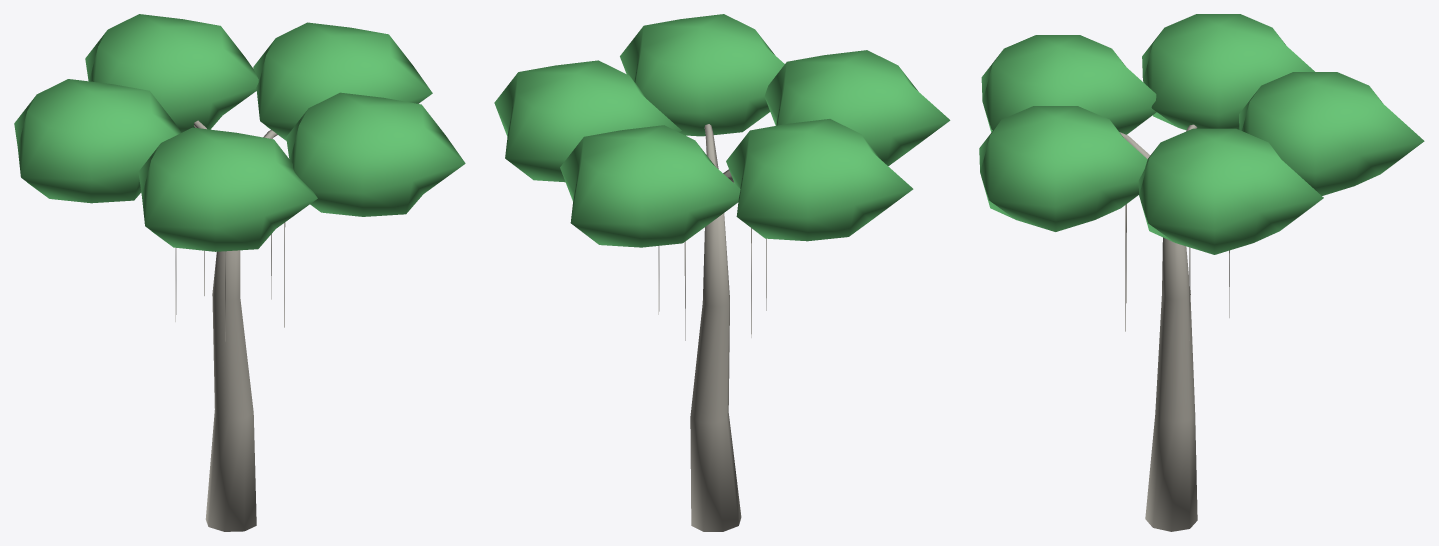
Rendered from canopy_sacred_bodhi.glb.
The picture shows the model from 3 angles, left to right: view 1: azimuth 30°, elevation 25°; view 2: azimuth 150°, elevation 25°; view 3: azimuth 270°, elevation 25°; orthographic projection.
Parts seen in each view (by area): view 1: Flora_Sacred_Bodhi; view 2: Flora_Sacred_Bodhi; view 3: Flora_Sacred_Bodhi.
Boxes of the visible parts, x1,y1,x2,y2 form: Flora_Sacred_Bodhi: [14, 14, 465, 531]; Flora_Sacred_Bodhi: [494, 14, 950, 531]; Flora_Sacred_Bodhi: [979, 14, 1424, 531].
Size of the model in its own units: 9.84 by 10.18 by 9.36.
